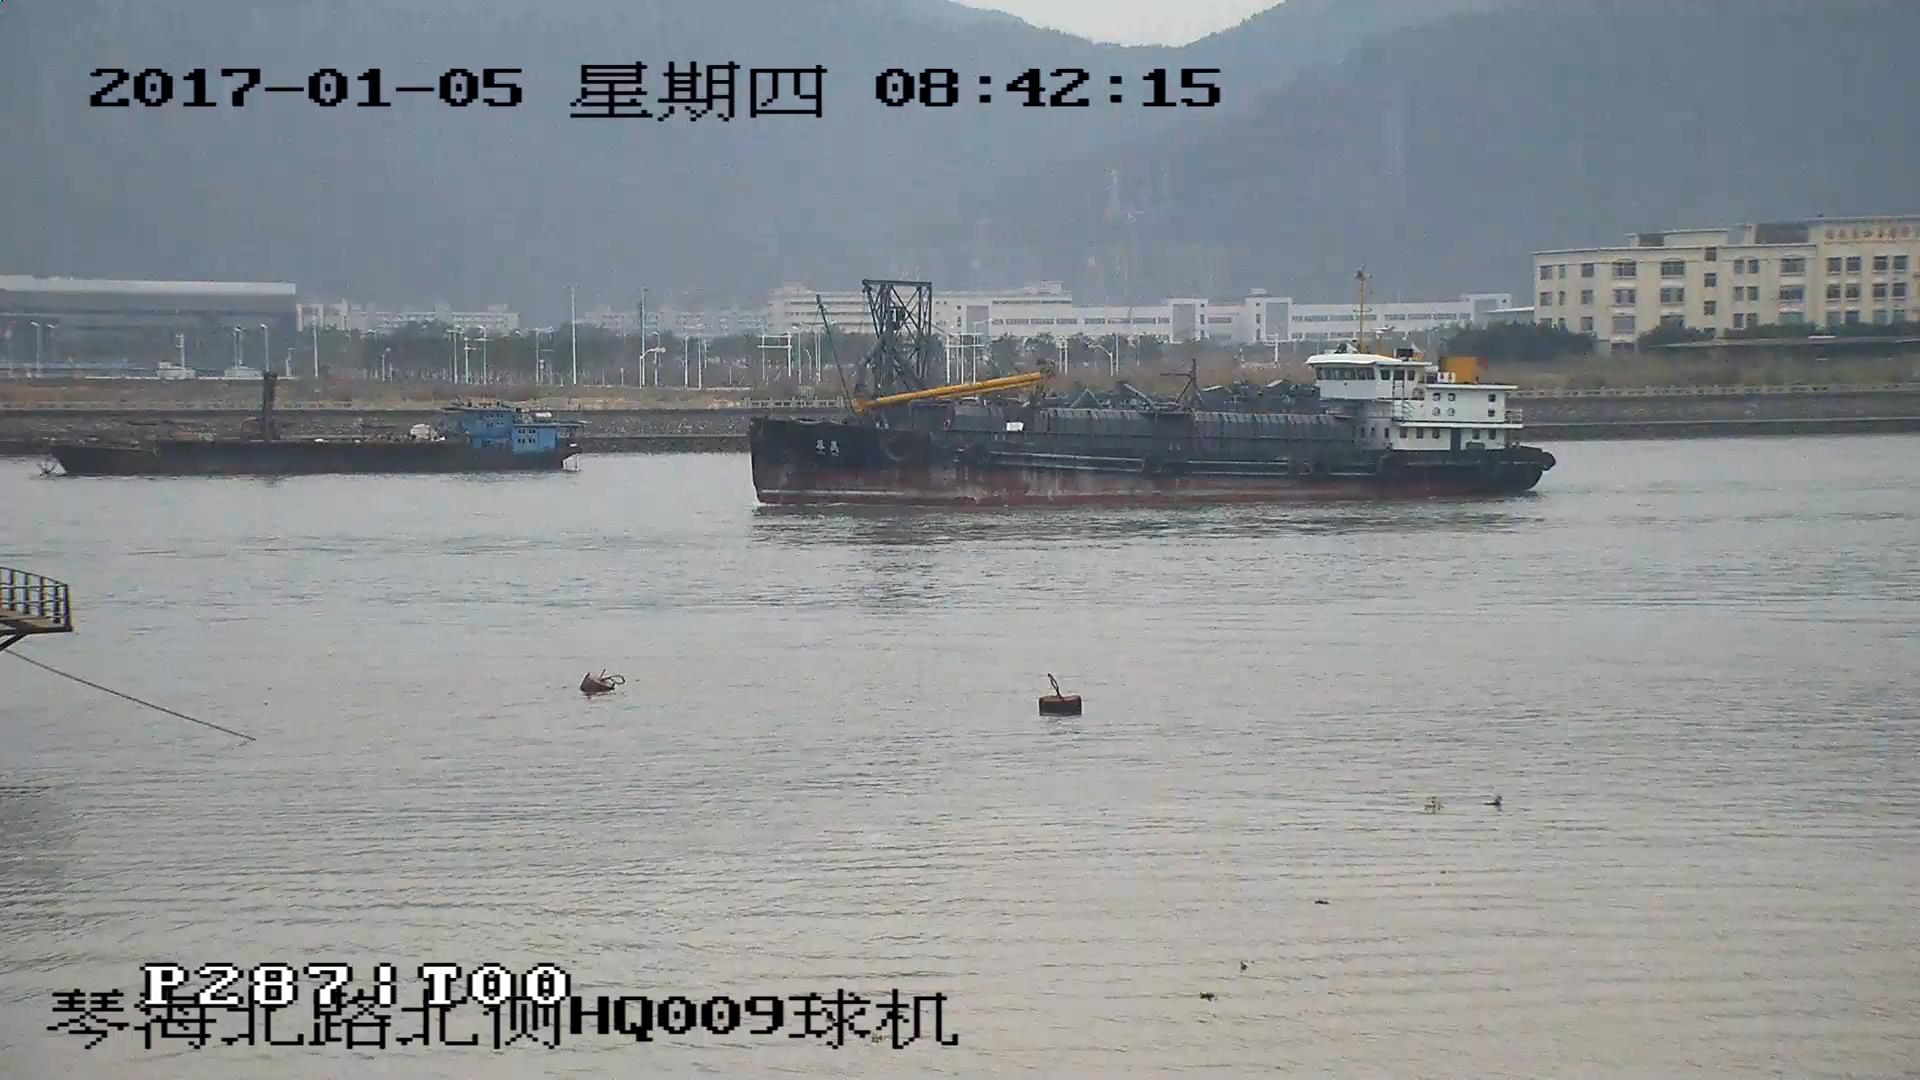bulk cargo carrier: (758, 285, 1558, 504)
